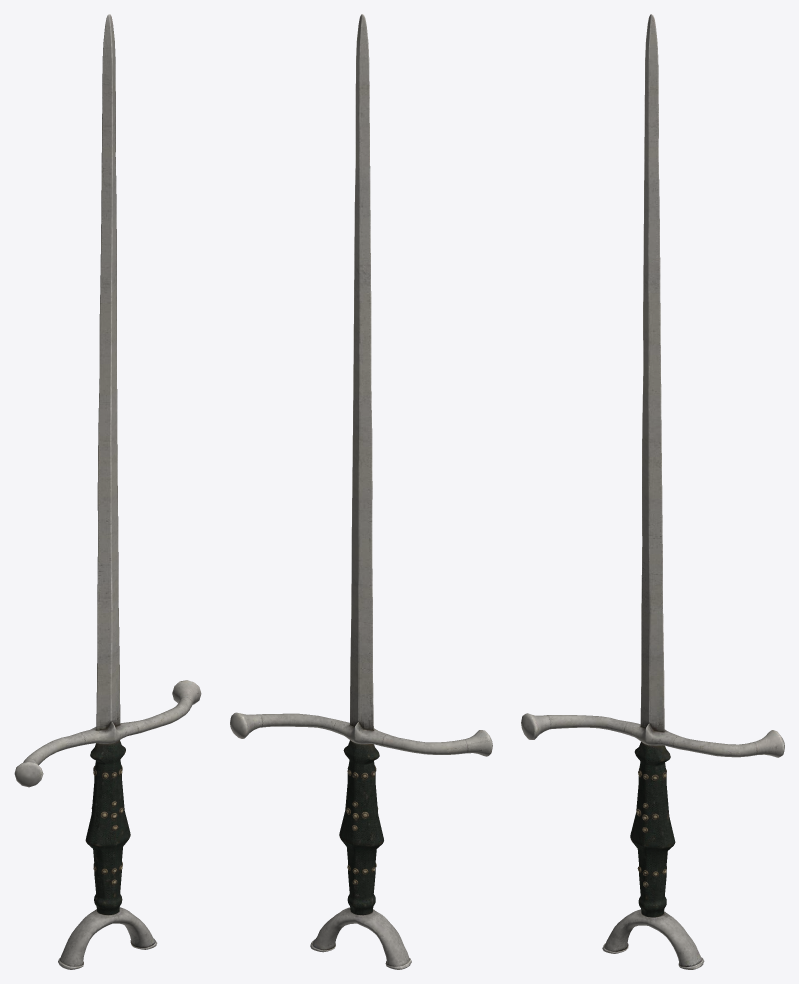
Rendered from natural-sword-clear.glb.
The picture shows the model from 3 angles, left to right: view 1: azimuth 30°, elevation 25°; view 2: azimuth 150°, elevation 25°; view 3: azimuth 330°, elevation 25°; orthographic projection.
Parts seen in each view (by area): view 1: natural-sword-clear runtime mesh; view 2: natural-sword-clear runtime mesh; view 3: natural-sword-clear runtime mesh.
Boxes of the visible parts, left/top/right/bottom form: natural-sword-clear runtime mesh: left=14, top=14, right=201, bottom=969; natural-sword-clear runtime mesh: left=230, top=14, right=492, bottom=969; natural-sword-clear runtime mesh: left=521, top=14, right=784, bottom=969.
Size of the model in its own units: 0.2738 by 1.1 by 0.1099.
Materials: 1 (1 with a texture image).
